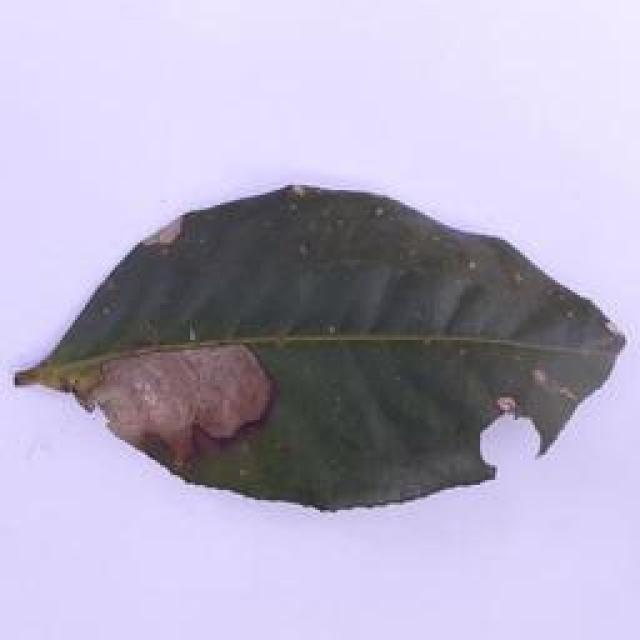Gray Blight: (12, 178, 628, 518)
